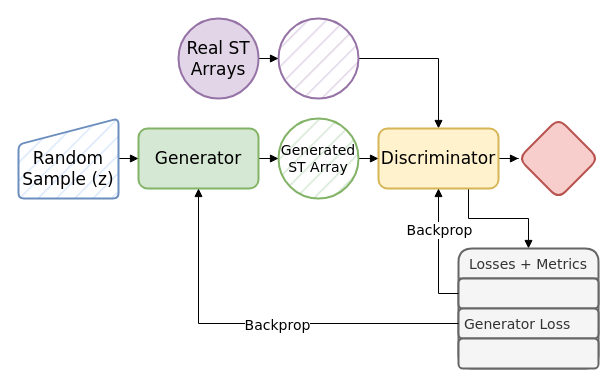
Some shapes in this 616 by 386 pixel diagram are drawn without their labels. Here are the shapes that lost their labels. From the top down, the centre of each, then its label:
At (x=318, y=58): "Sampled Batch".
At (x=558, y=158): "Real / Fake".
At (x=528, y=293): "Discriminator Loss".
At (x=528, y=353): "MAE, ACC".
